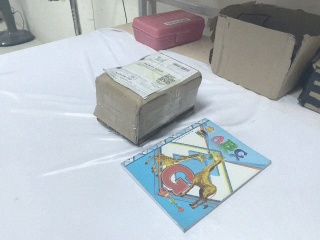book: (121, 116, 273, 235)
box: (210, 1, 320, 101), (94, 50, 202, 147), (297, 34, 320, 122)
